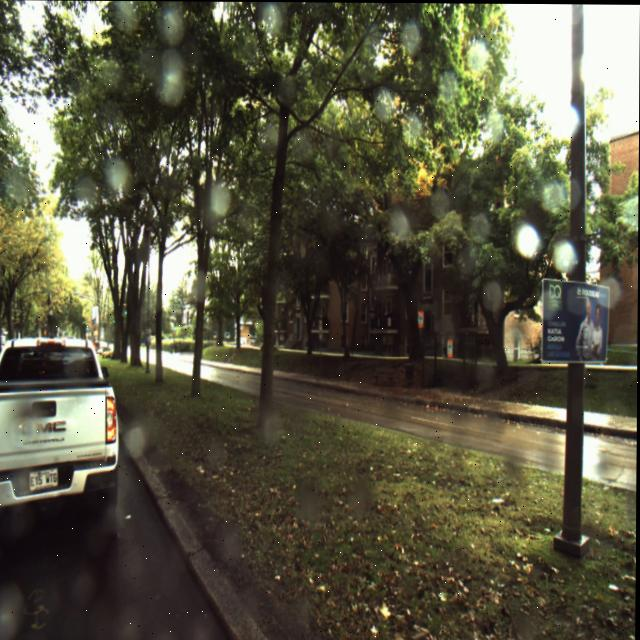car: (0, 338, 122, 514)
